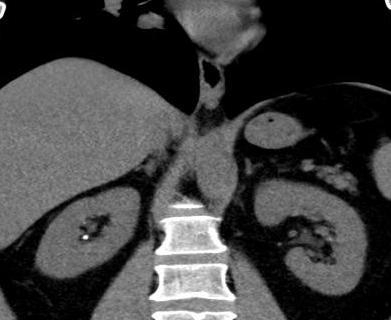Tas_Var: (80, 232, 90, 242)
